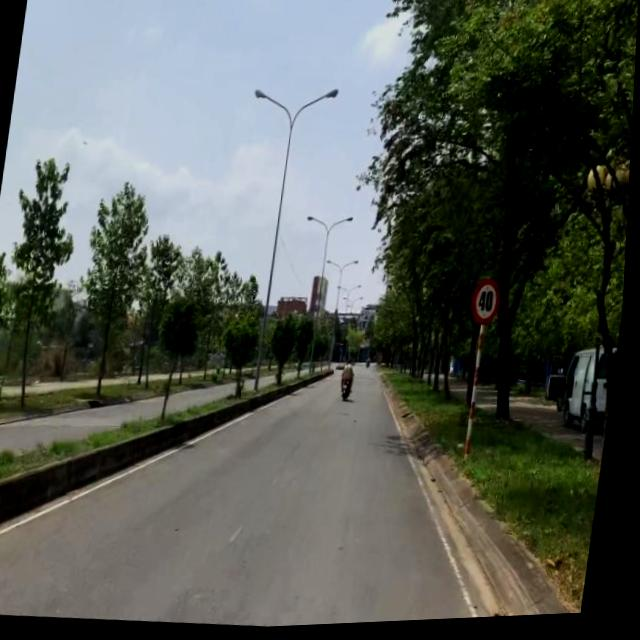Cam di nguoc chieu: (343, 344, 348, 350)
Toc do toi da cho phep: (473, 279, 506, 330)
Vong chuong ngai vat sang phai: (342, 350, 347, 357)
